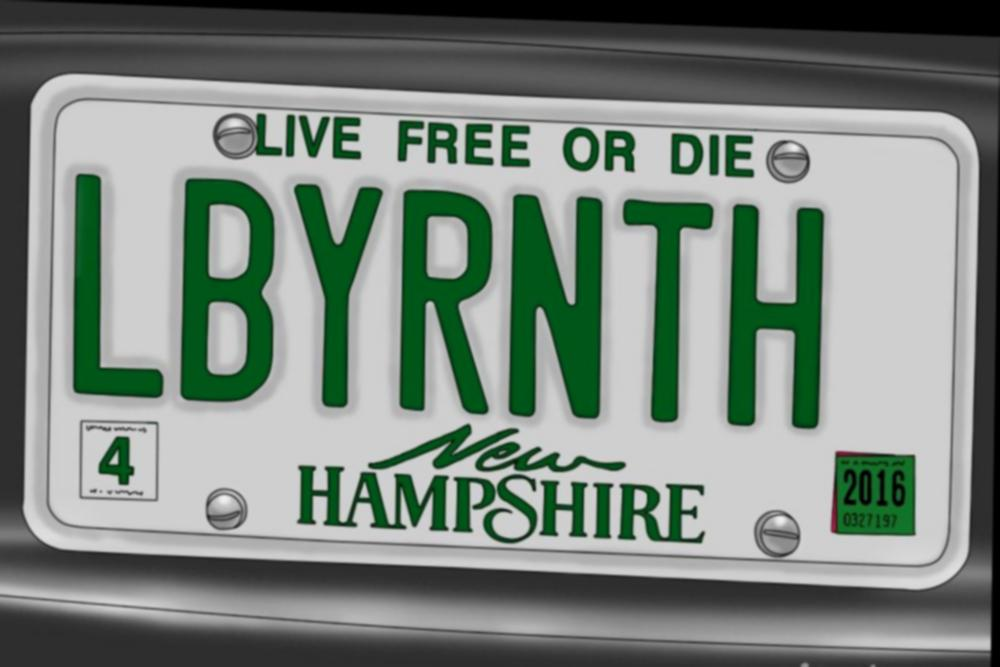License_Plate: (29, 70, 973, 591)
